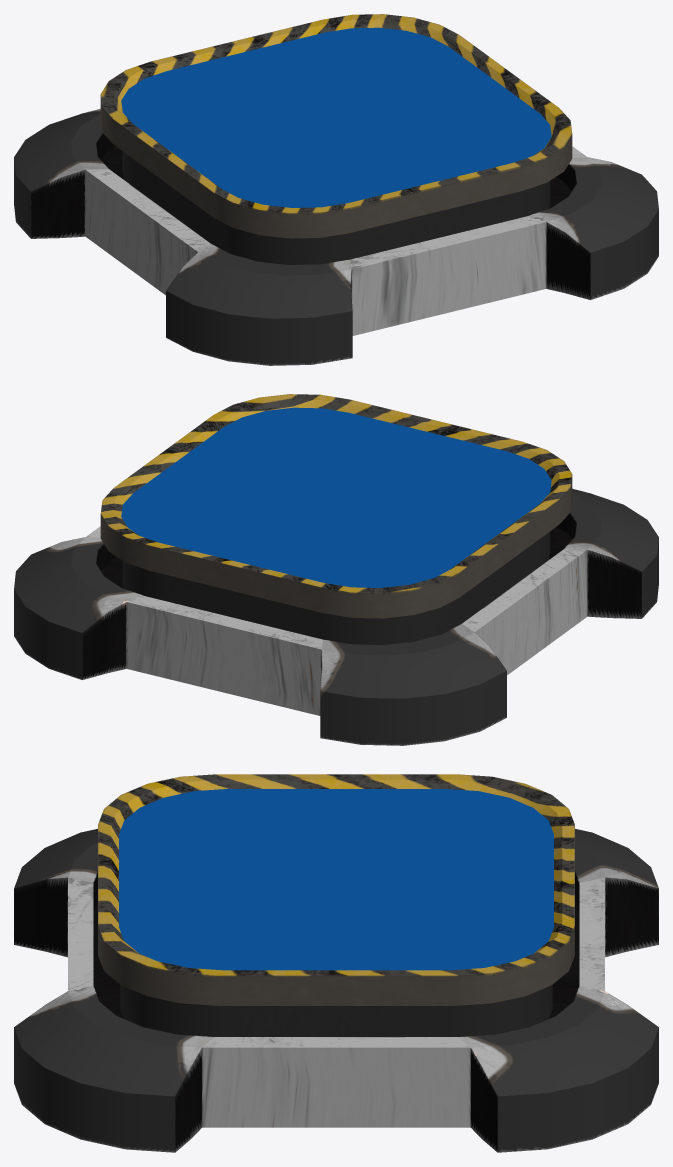
The model's file is ColorPanel.fbx.
The picture shows the model from 3 angles, top to bottom: view 1: azimuth 30°, elevation 25°; view 2: azimuth 150°, elevation 25°; view 3: azimuth 270°, elevation 25°; orthographic projection. The views are drawn at different scales.
Parts seen in each view (by area): view 1: Panel1; view 2: Panel1; view 3: Panel1.
Part boxes in pixels (<box>): Panel1: <box>14,14,658,365</box>; Panel1: <box>14,394,658,745</box>; Panel1: <box>14,774,658,1152</box>.
Bounding box in the file's own units: 4.86 × 1.14 × 4.78.
